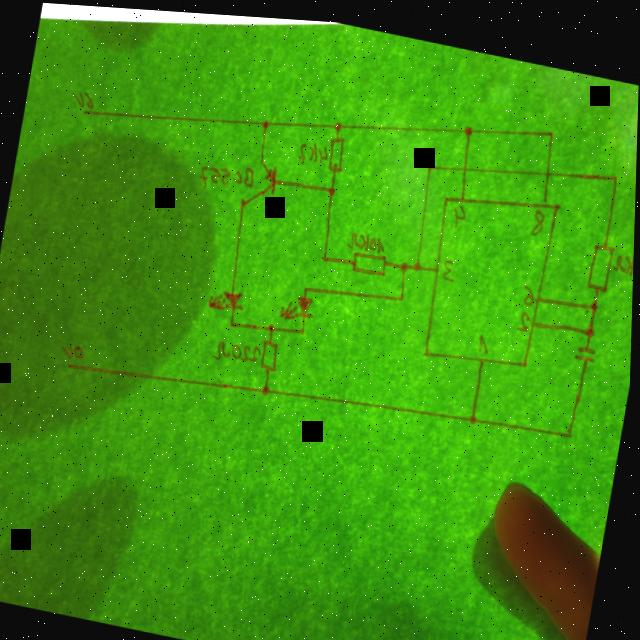capacitor: (573, 332, 599, 357)
crossover: (544, 158, 553, 172), (461, 155, 469, 167)
diode: (280, 286, 318, 319), (209, 281, 248, 311)
junction: (463, 116, 475, 131), (586, 315, 598, 330), (413, 252, 425, 266), (590, 290, 602, 303), (400, 253, 411, 267), (327, 178, 338, 192), (470, 405, 481, 418), (263, 378, 273, 392), (426, 154, 436, 167), (398, 285, 408, 298), (566, 418, 576, 431), (261, 112, 271, 125), (334, 115, 343, 127), (268, 317, 277, 329), (612, 163, 620, 174), (230, 313, 237, 325), (322, 248, 330, 258), (548, 119, 555, 130), (304, 278, 311, 288), (301, 321, 308, 331)
resistor: (587, 231, 616, 283), (351, 241, 389, 272), (327, 128, 348, 167), (261, 333, 282, 369)
terminal: (68, 358, 75, 368), (81, 104, 88, 114)
text: (198, 152, 257, 193), (214, 332, 265, 364), (348, 223, 388, 249), (298, 133, 330, 165), (614, 239, 635, 270), (530, 199, 548, 229), (62, 340, 88, 360), (72, 87, 97, 107), (452, 194, 469, 223), (442, 250, 459, 275), (522, 275, 538, 298), (518, 300, 533, 324), (479, 325, 493, 347)
transistor: (241, 153, 280, 207)
